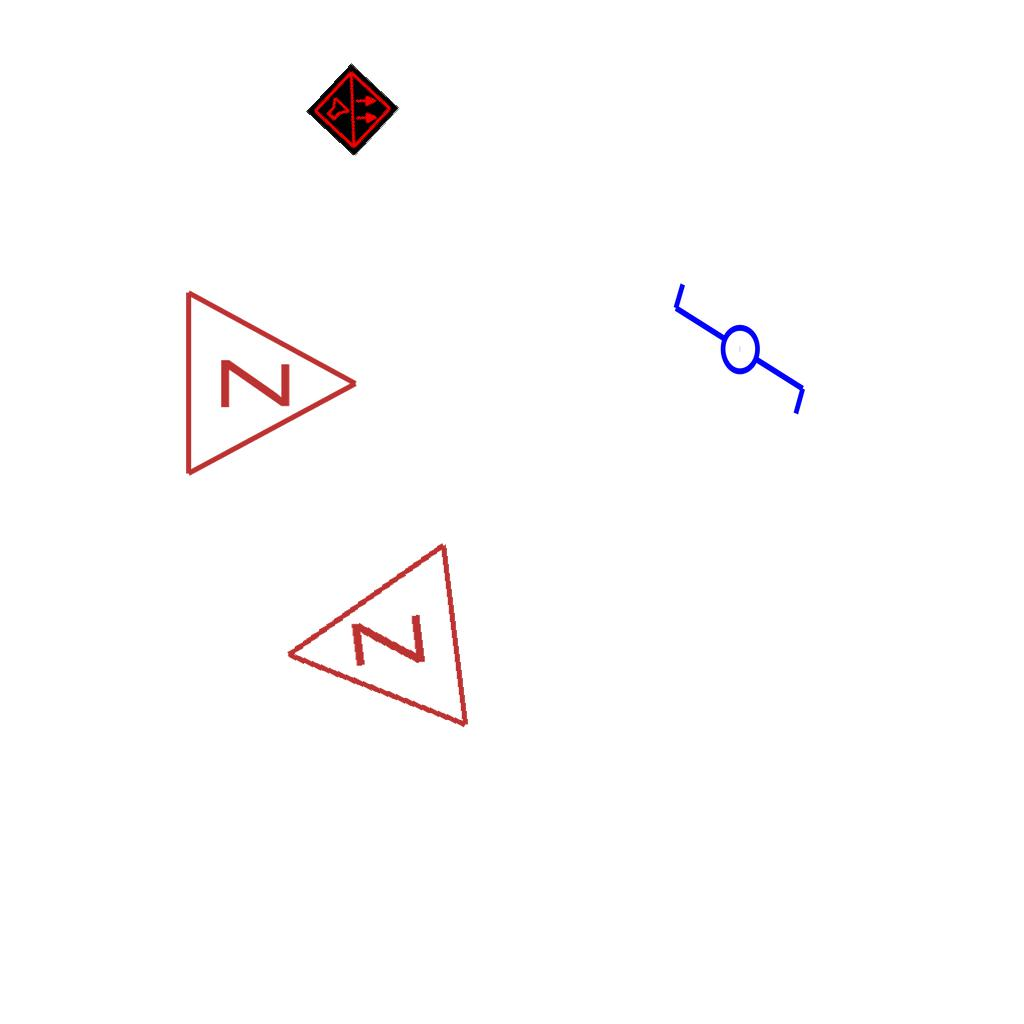OKW_Multisensormelder_(Kombination_optischer_Rauch-Kahlenmonoxid_Waerme-Melder): (306, 63, 400, 157)
Wechselschalter: (666, 279, 810, 436)
Zimmersignalleuchte: (261, 537, 485, 757), (171, 283, 371, 479)
